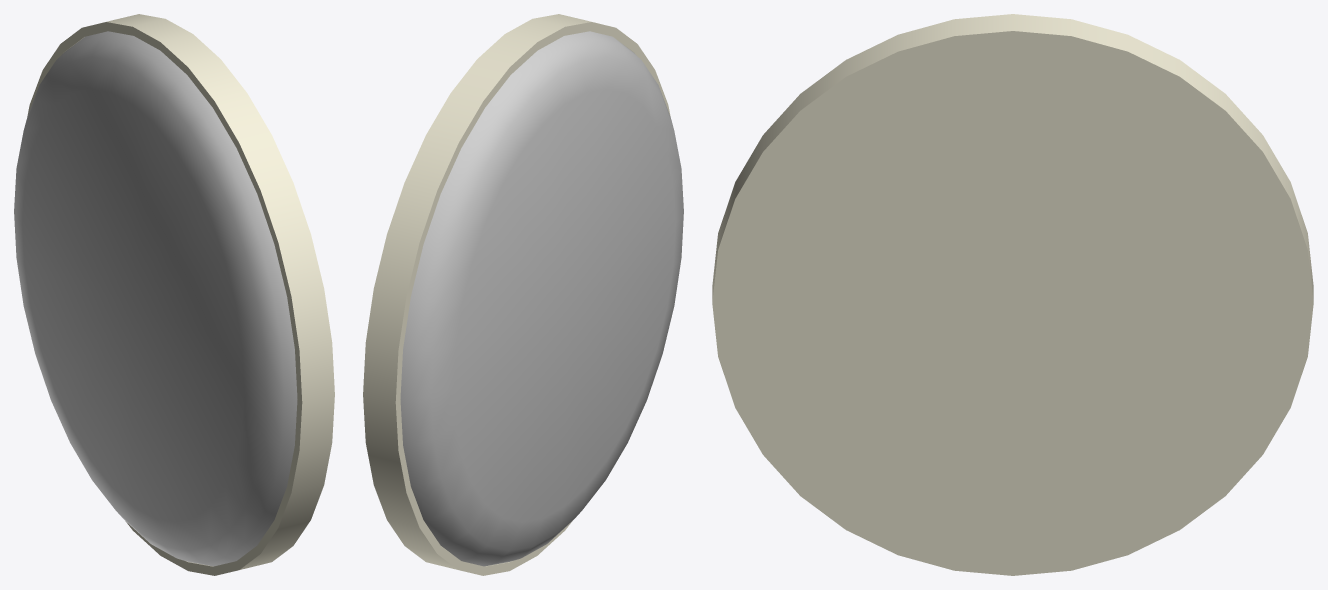
Rendered from SM_Clock_01.fbx.
The picture shows the model from 3 angles, left to right: view 1: azimuth 30°, elevation 25°; view 2: azimuth 150°, elevation 25°; view 3: azimuth 270°, elevation 25°; orthographic projection. The views are drawn at different scales.
Parts seen in each view (by area): view 1: SM_Clock_01_LOD0; view 2: SM_Clock_01_LOD0; view 3: SM_Clock_01_LOD0.
Part boxes in pixels (x1,y1,x2,y2): SM_Clock_01_LOD0: [14, 14, 334, 575]; SM_Clock_01_LOD0: [363, 14, 683, 575]; SM_Clock_01_LOD0: [712, 14, 1313, 575].
Size of the model in its own units: 3.82 by 30 by 30.
